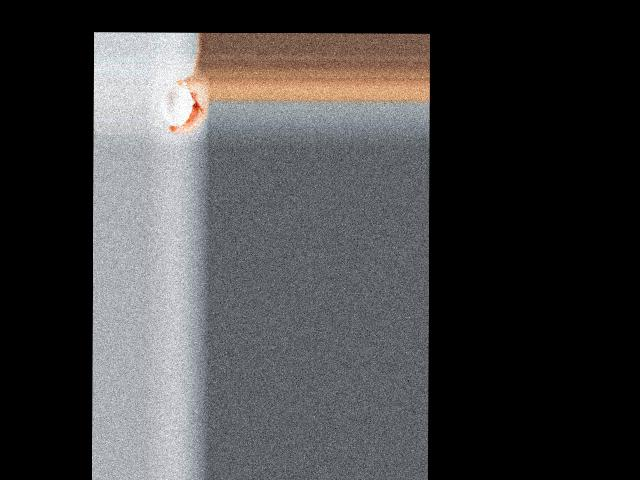egg: (161, 85, 191, 127)
